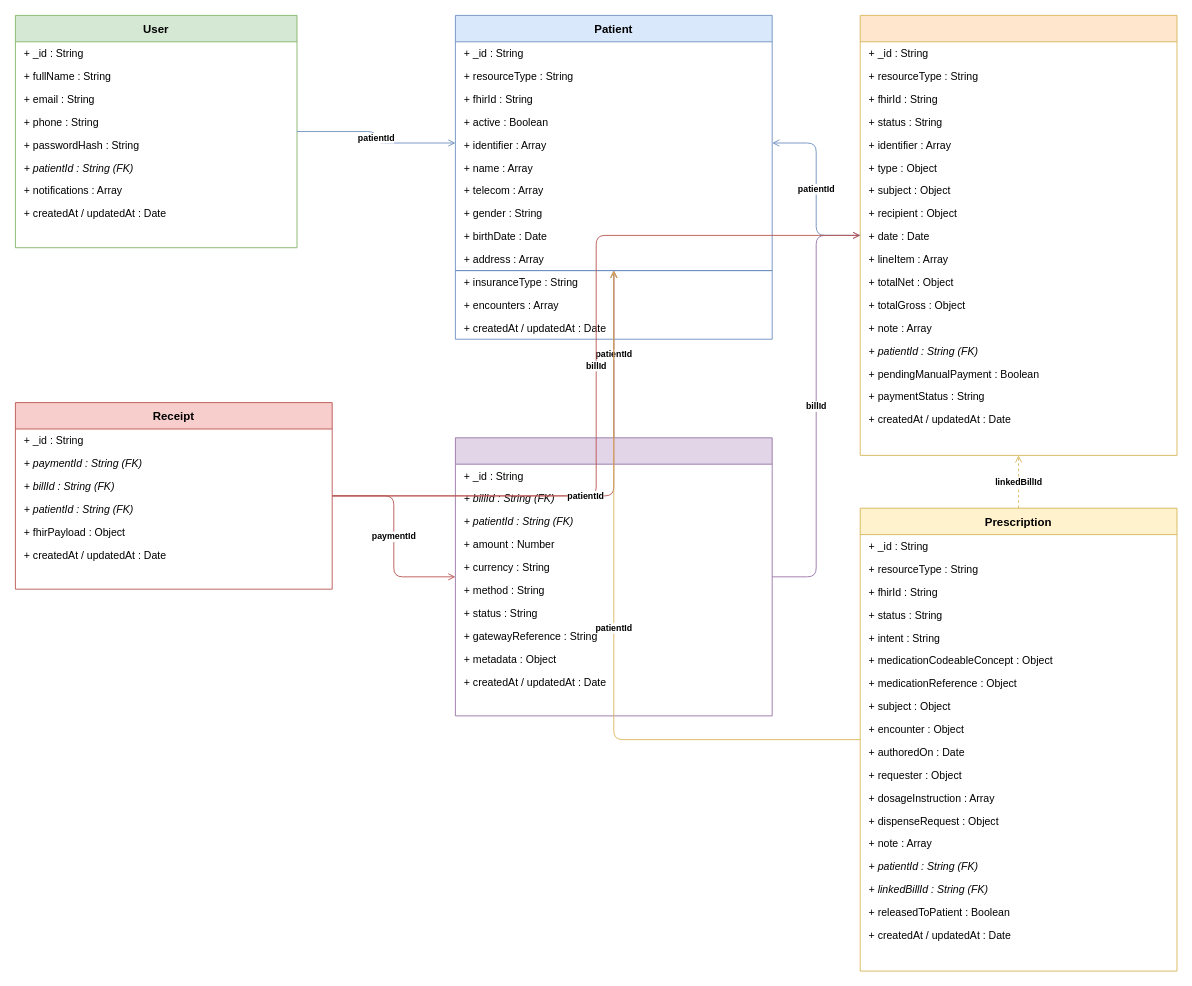
Image size: 1192x986. Some labels were removed from this diagram. The shapes that lost their labels are listed below. From the top down, each one's box as (x1, y1, x2, y2) in pixels, then its label:
(859, 15, 1177, 455): Bill
(455, 437, 772, 716): Payment
